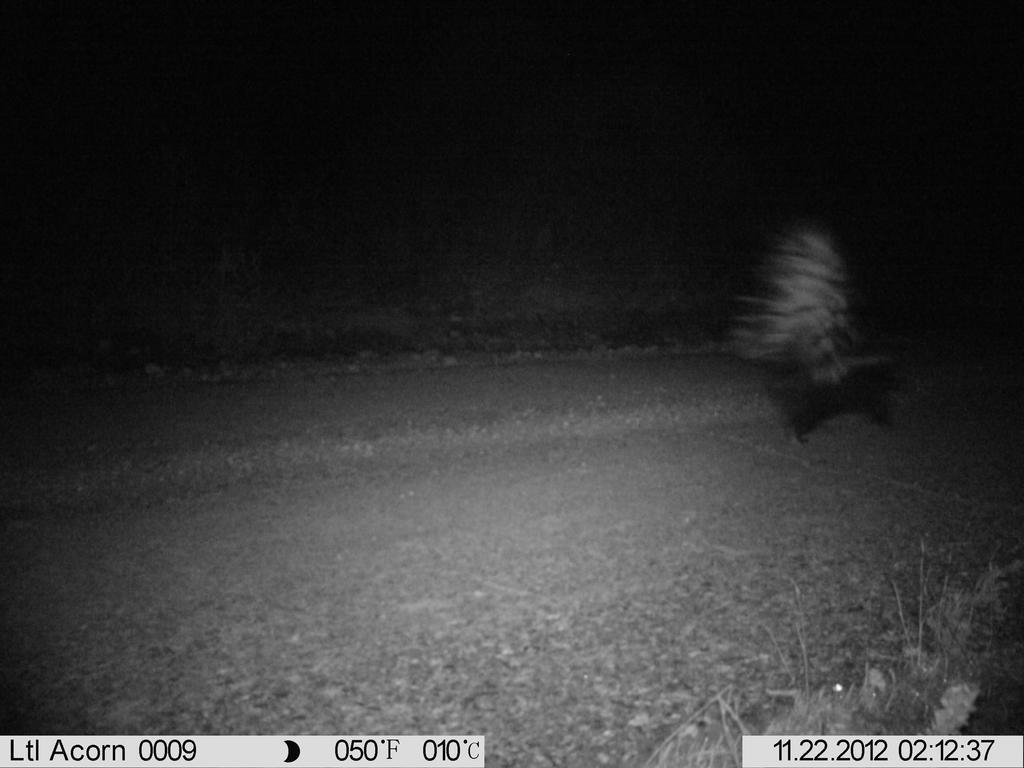skunk: (729, 214, 919, 452)
